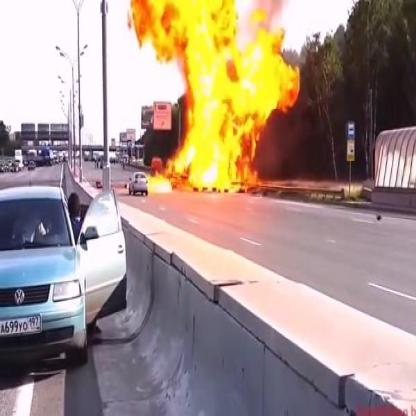fire: (125, 0, 307, 199)
